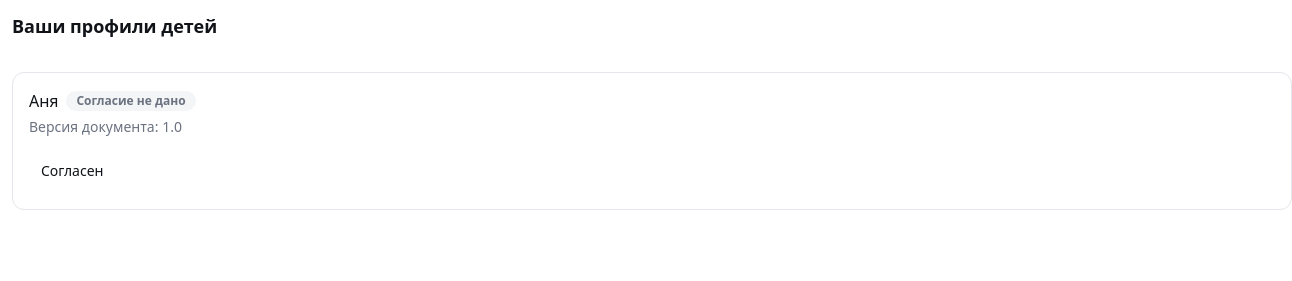
Scenario: ConsentManager › при ошибке сервера показывает сообщение об ошибке
Step 1. Click the button "Согласен" → coordinates (72, 171), box [29,149,116,193]
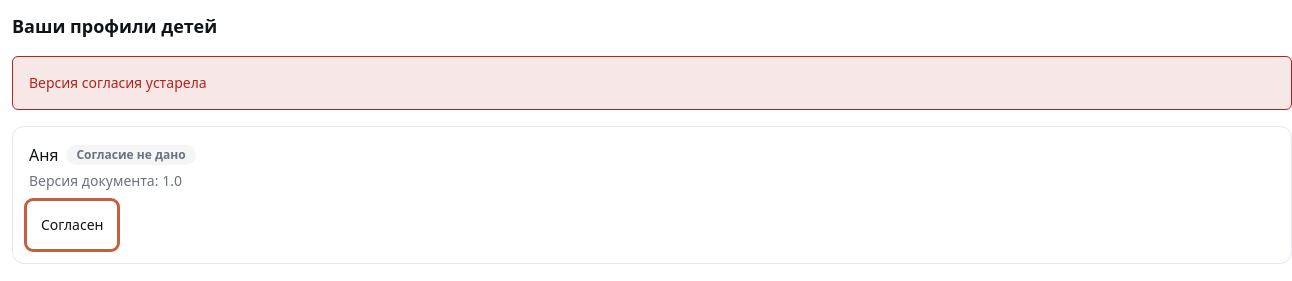
expect the message reads "Версия согласия устарела": met, box [29,73,207,92]
